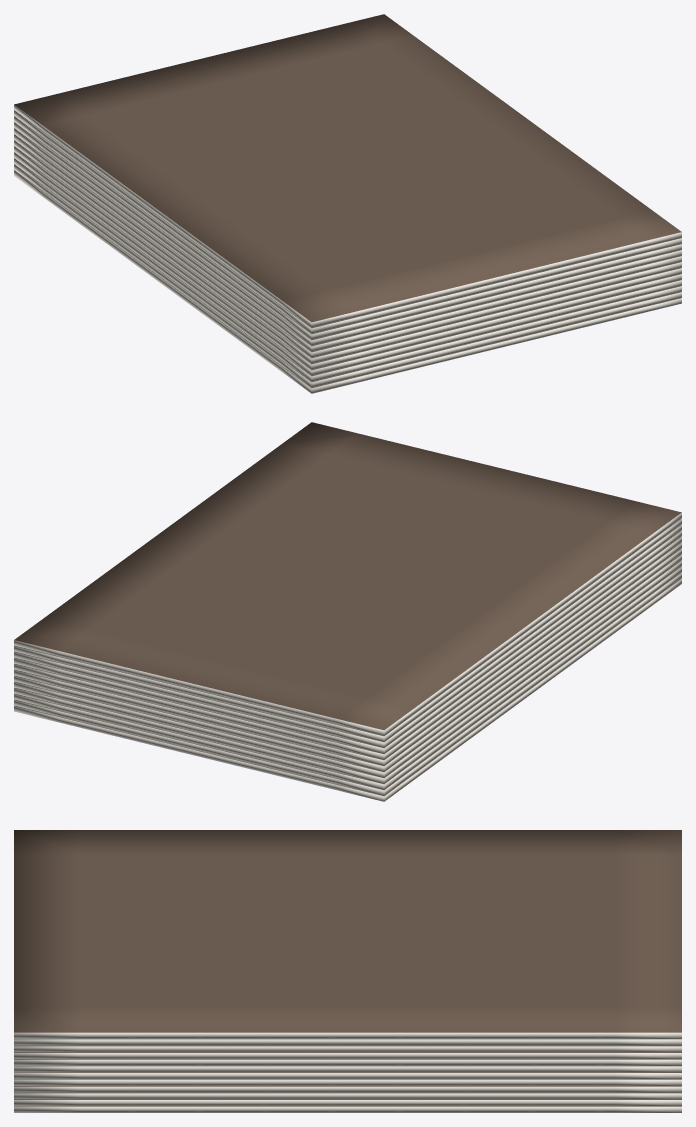
The model's file is riffle.glb.
3 views of the same model, one above another, from view 1: azimuth 30°, elevation 25°; view 2: azimuth 150°, elevation 25°; view 3: azimuth 270°, elevation 25° (orthographic). The views are drawn at different scales.
Parts seen in each view (by area): view 1: riffle11, riffle02, riffle06, riffle08, riffle09, riffle00, riffle03, riffle04, riffle05, riffle07, riffle10, riffle01; view 2: riffle11, riffle02, riffle06, riffle08, riffle09, riffle00, riffle03, riffle04, riffle05, riffle07, riffle10, riffle01; view 3: riffle11, riffle01, riffle02, riffle05, riffle09, riffle00, riffle03, riffle04, riffle06, riffle07, riffle08, riffle10.
Part boxes in pixels (left/top/right/bottom): riffle11: left=14, top=14, right=681, bottom=327; riffle02: left=14, top=158, right=681, bottom=381; riffle06: left=14, top=134, right=681, bottom=357; riffle08: left=14, top=122, right=681, bottom=345; riffle09: left=14, top=116, right=681, bottom=339; riffle00: left=14, top=170, right=681, bottom=393; riffle03: left=14, top=152, right=681, bottom=375; riffle04: left=14, top=146, right=681, bottom=369; riffle05: left=14, top=140, right=681, bottom=363; riffle07: left=14, top=128, right=681, bottom=351; riffle10: left=14, top=110, right=681, bottom=333; riffle01: left=14, top=164, right=681, bottom=387; riffle11: left=14, top=422, right=681, bottom=735; riffle02: left=14, top=566, right=681, bottom=789; riffle06: left=14, top=542, right=681, bottom=765; riffle08: left=14, top=530, right=681, bottom=753; riffle09: left=14, top=524, right=681, bottom=747; riffle00: left=14, top=578, right=681, bottom=801; riffle03: left=14, top=560, right=681, bottom=783; riffle04: left=14, top=554, right=681, bottom=777; riffle05: left=14, top=548, right=681, bottom=771; riffle07: left=14, top=536, right=681, bottom=759; riffle10: left=14, top=518, right=681, bottom=741; riffle01: left=14, top=572, right=681, bottom=795; riffle11: left=14, top=830, right=681, bottom=1038; riffle01: left=14, top=1099, right=681, bottom=1106; riffle02: left=14, top=1092, right=681, bottom=1099; riffle05: left=14, top=1072, right=681, bottom=1079; riffle09: left=14, top=1045, right=681, bottom=1052; riffle00: left=14, top=1106, right=681, bottom=1112; riffle03: left=14, top=1086, right=681, bottom=1092; riffle04: left=14, top=1079, right=681, bottom=1085; riffle06: left=14, top=1066, right=681, bottom=1072; riffle07: left=14, top=1059, right=681, bottom=1065; riffle08: left=14, top=1052, right=681, bottom=1058; riffle10: left=14, top=1039, right=681, bottom=1045.
Bounding box in the file's own units: 0.84 × 0.155 × 1.17.
